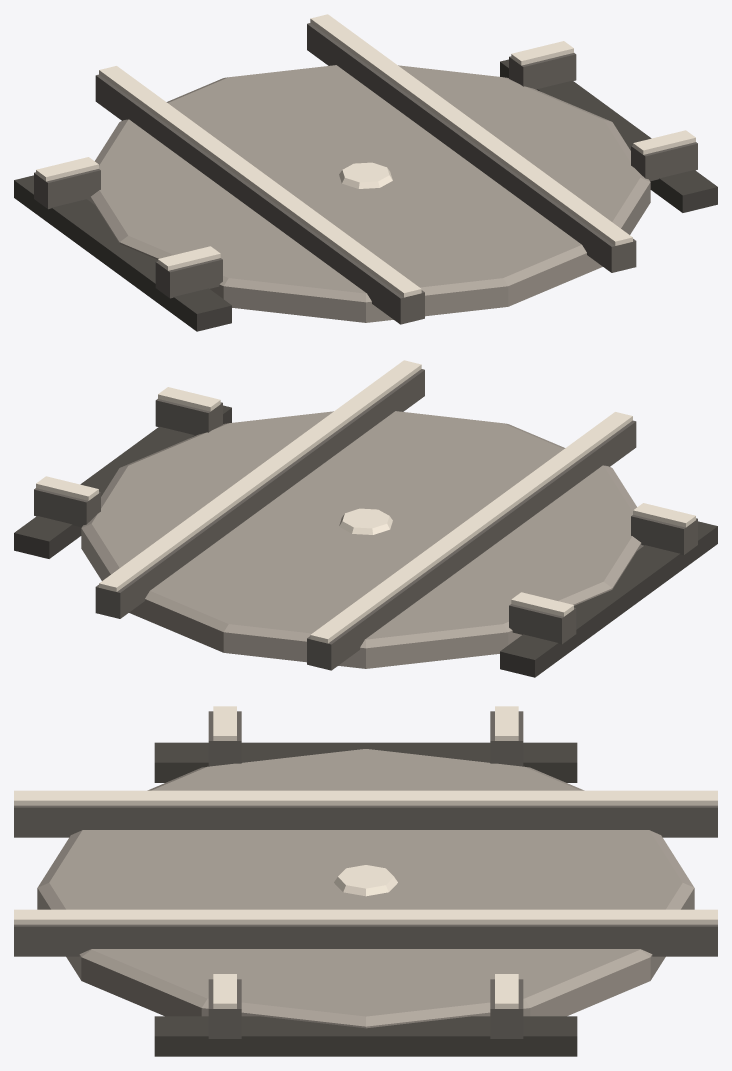
File: SM_VKI_Overlay_Track_Cross.fbx
3 views of the same model, one above another, from view 1: azimuth 30°, elevation 25°; view 2: azimuth 150°, elevation 25°; view 3: azimuth 270°, elevation 25° (orthographic). The views are drawn at different scales.
Parts seen in each view (by area): view 1: SM_VKI_Overlay_Track_Cross.001; view 2: SM_VKI_Overlay_Track_Cross.001; view 3: SM_VKI_Overlay_Track_Cross.001.
Part boxes in pixels (left/top/right/bottom): SM_VKI_Overlay_Track_Cross.001: left=14, top=14, right=717, bottom=331; SM_VKI_Overlay_Track_Cross.001: left=14, top=360, right=717, bottom=677; SM_VKI_Overlay_Track_Cross.001: left=14, top=706, right=717, bottom=1056.
Bounding box in the file's own units: 1.5 × 0.133 × 1.5.
